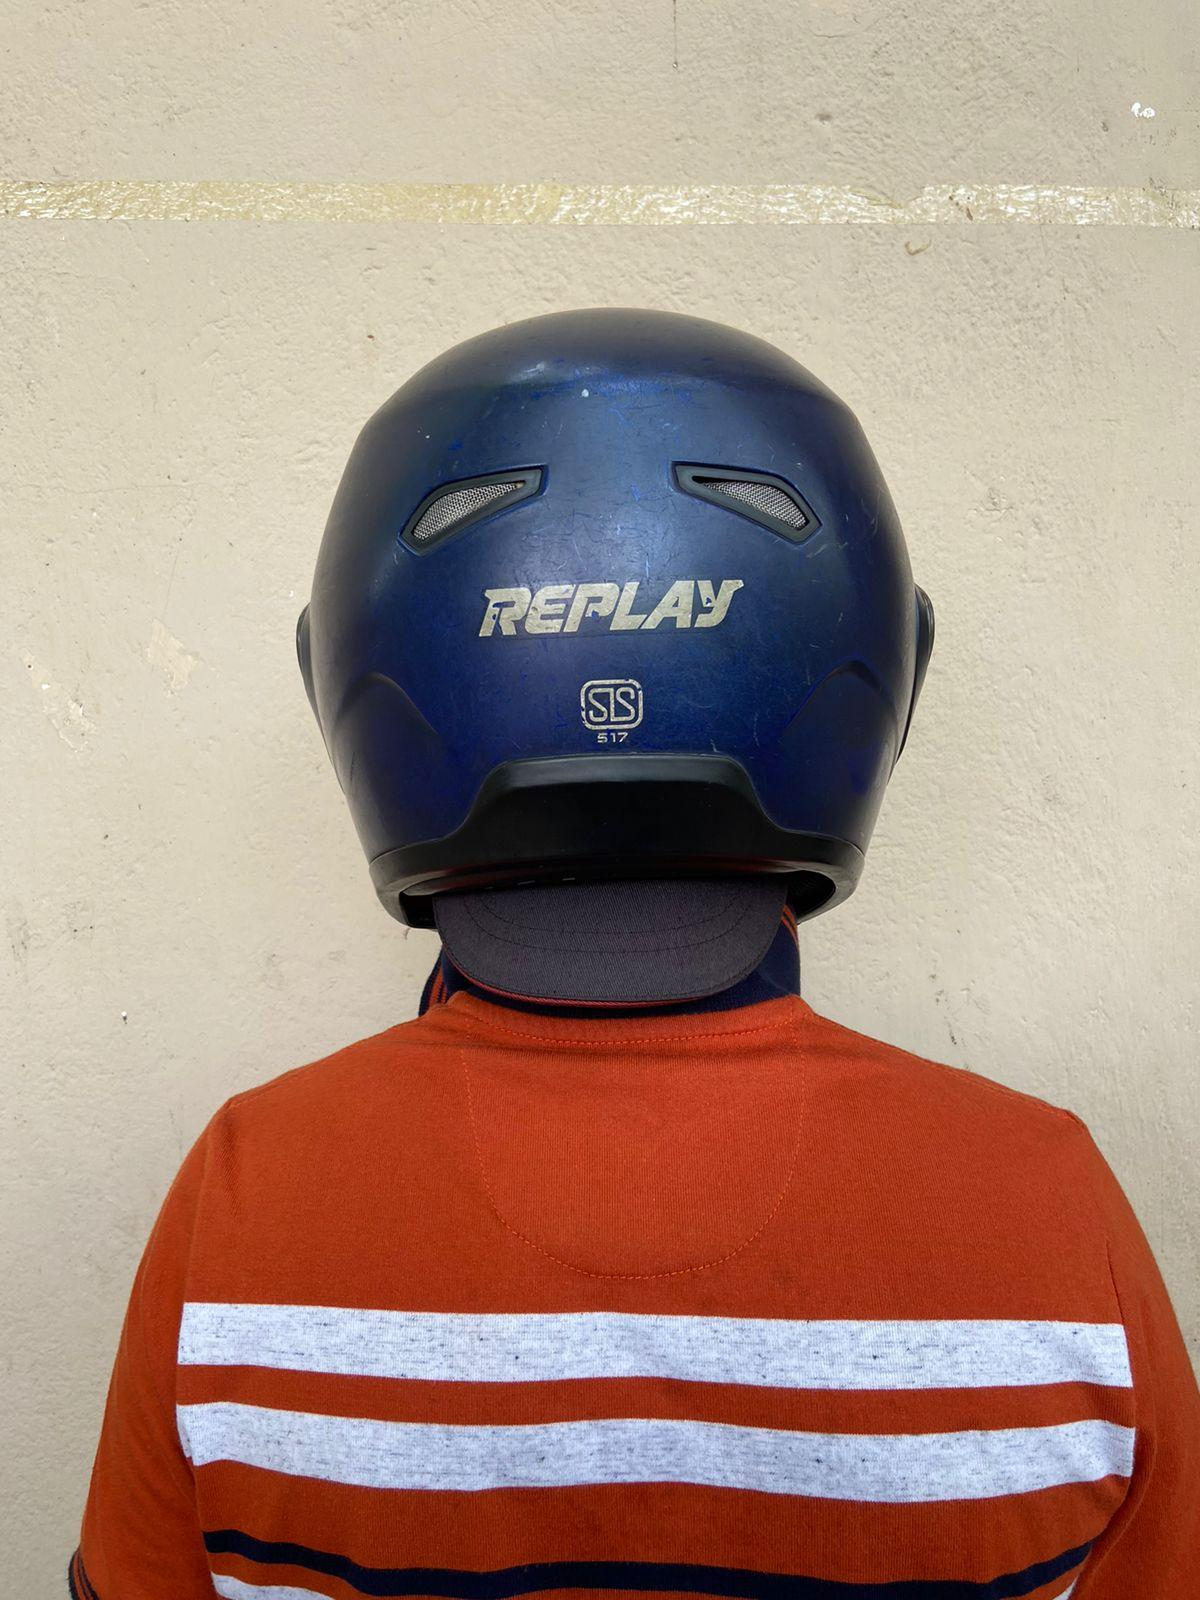helmet: (292, 306, 937, 934)
